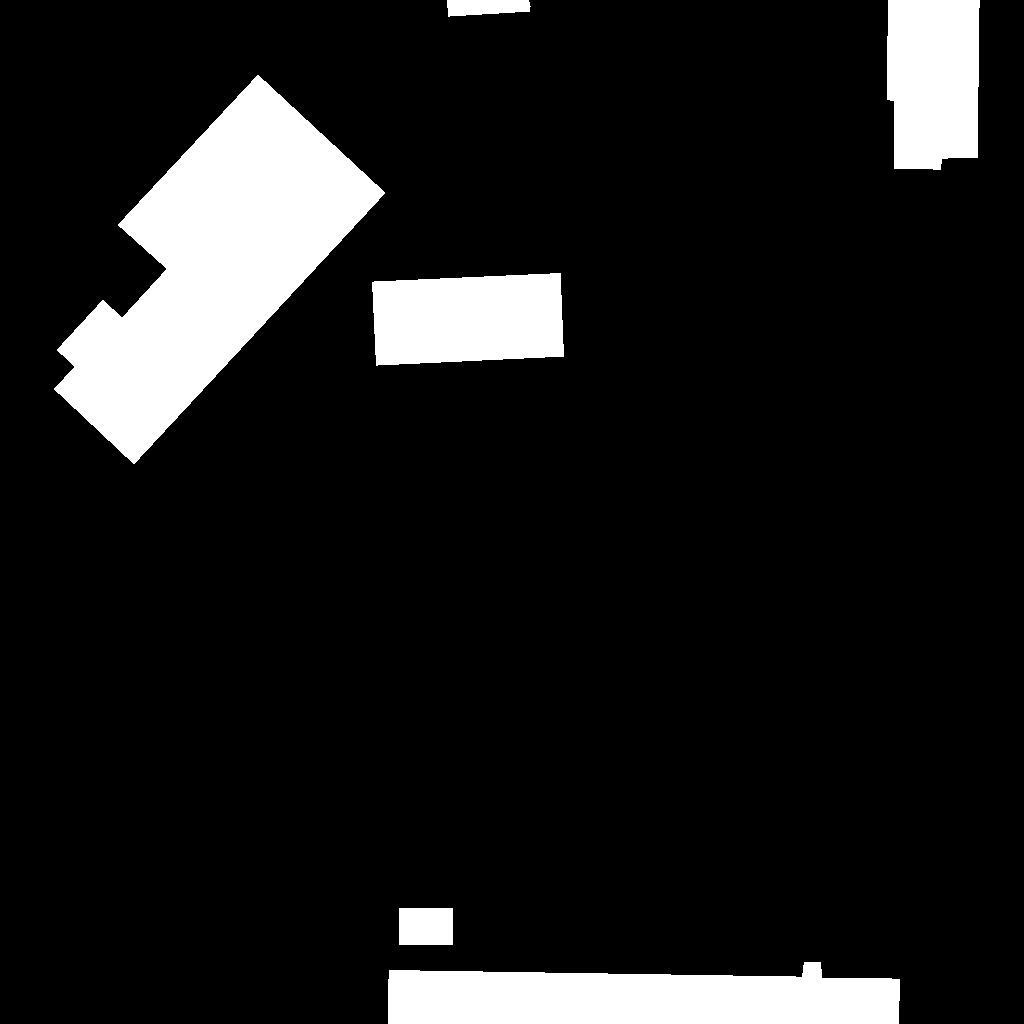building: (54, 75, 386, 465), (388, 962, 901, 1024), (372, 273, 565, 366), (887, 0, 980, 170), (399, 908, 454, 945), (447, 0, 531, 17)
